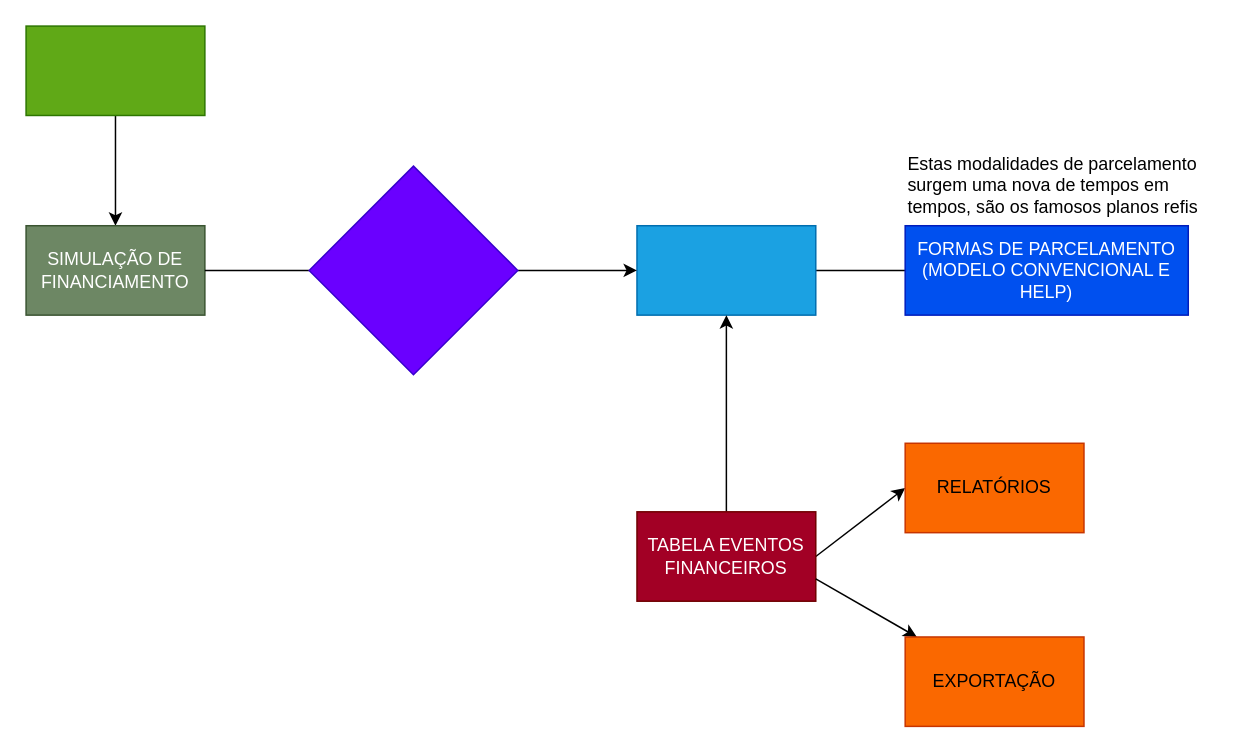
The diagram is 1244 pixels wide and 752 high, and some of its shapes have lost their labels. The box of each missing label's shape, as (x1, y1, x2, y2) in pixels:
CLIENTES: (25, 25, 205, 115)
LANÇAMENTOS: (635, 224, 816, 315)
TRANSFORMAR ESSA SIMULAÇÃO EM LANÇAMENTOS: (308, 165, 518, 375)
